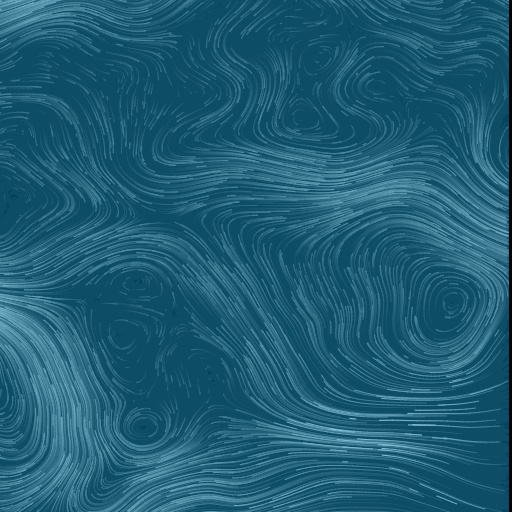eddy: (397, 259, 499, 366), (118, 403, 176, 448), (277, 93, 330, 140), (109, 267, 168, 303), (293, 36, 341, 80), (102, 315, 147, 356), (360, 72, 396, 101)
